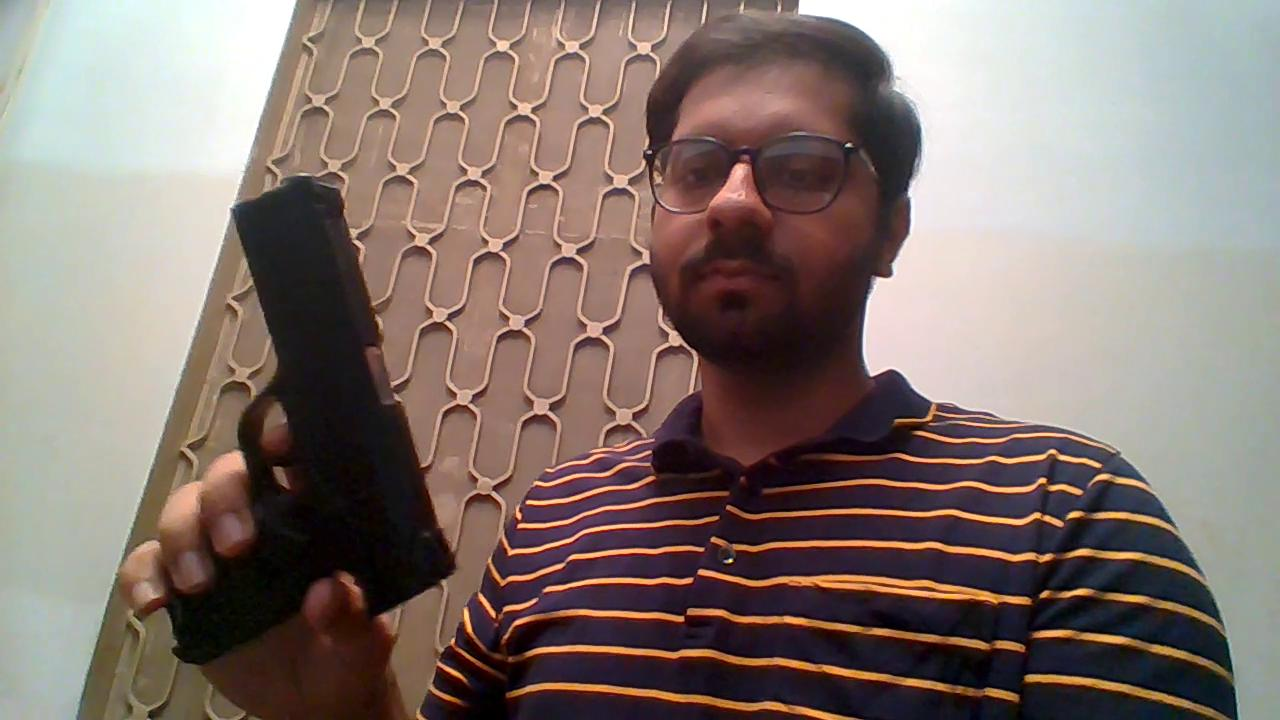criminal: (122, 11, 1236, 720)
weapon: (160, 173, 461, 663)
